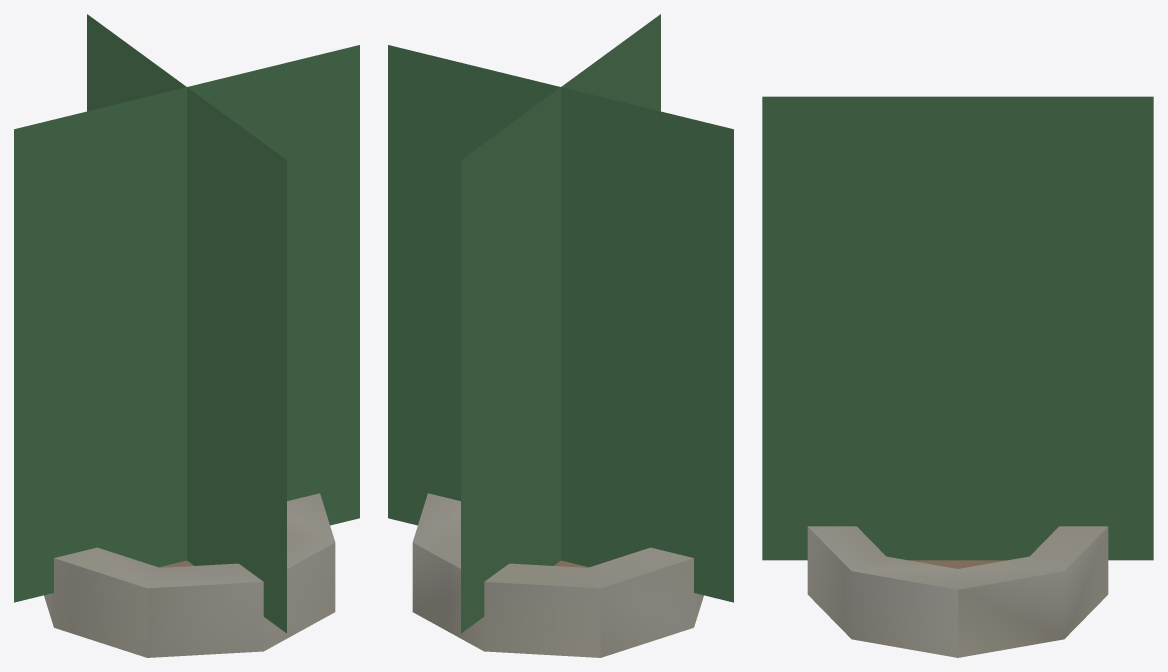
Rendered from tree-park-large.glb.
3 views of the same model, side by side, from view 1: azimuth 30°, elevation 25°; view 2: azimuth 150°, elevation 25°; view 3: azimuth 270°, elevation 25° (orthographic). The views are drawn at different scales.
Visible parts, largest first — view 1: tree-park-large; view 2: tree-park-large; view 3: tree-park-large.
Boxes of the visible parts, x1,y1,x2,y2 form: tree-park-large: (14, 14, 359, 657); tree-park-large: (388, 14, 733, 657); tree-park-large: (762, 96, 1153, 657).
Size of the model in its own units: 1.04 by 1.46 by 1.04.
